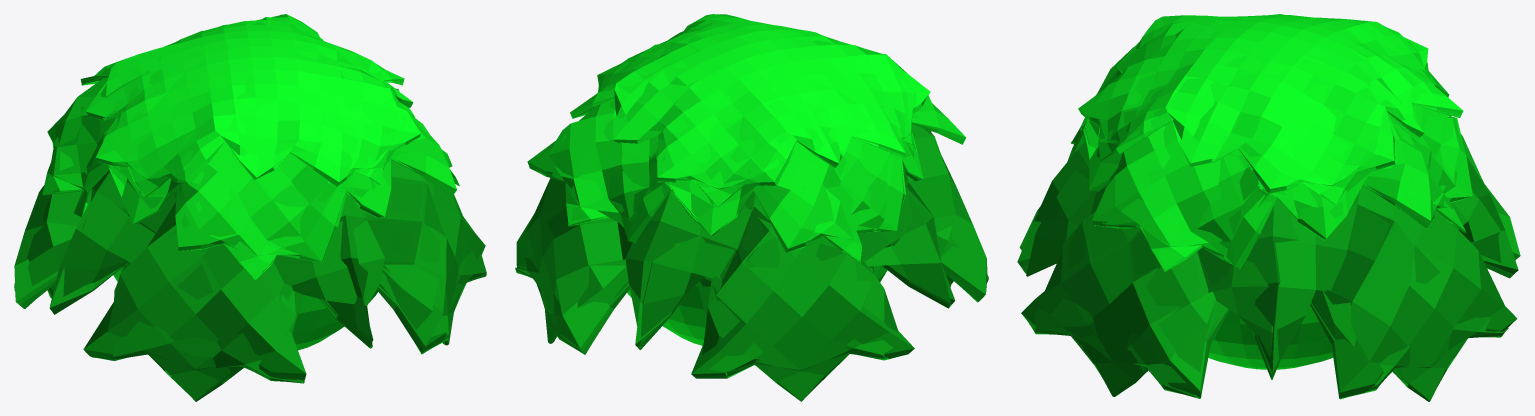
File: bush_1.fbx
3 views of the same model, side by side, from view 1: azimuth 30°, elevation 25°; view 2: azimuth 150°, elevation 25°; view 3: azimuth 270°, elevation 25° (orthographic). The views are drawn at different scales.
Parts seen in each view (by area): view 1: Leaves, Leaves.002, Leaves.001, Sphere; view 2: Leaves, Leaves.002, Leaves.001, Sphere; view 3: Leaves, Leaves.002, Leaves.001, Sphere.
Boxes of the visible parts, <box> form: Leaves: <box>14,159,486,401</box>; Leaves.002: <box>80,14,420,197</box>; Leaves.001: <box>42,77,459,280</box>; Sphere: <box>113,267,377,350</box>; Leaves: <box>515,124,988,401</box>; Leaves.002: <box>570,14,930,206</box>; Leaves.001: <box>527,95,966,262</box>; Sphere: <box>627,265,887,345</box>; Leaves: <box>1017,134,1520,401</box>; Leaves.002: <box>1078,14,1463,204</box>; Leaves.001: <box>1067,47,1472,271</box>; Sphere: <box>1208,305,1333,369</box>.
Bounding box in the file's own units: 333 × 236 × 334.
